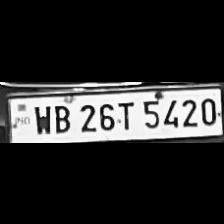0: (198, 94, 216, 124)
2: (75, 100, 97, 132), (178, 95, 198, 127)
4: (160, 94, 178, 128)
5: (138, 96, 160, 128)
6: (96, 99, 116, 131)
B: (50, 100, 72, 134)
T: (116, 96, 136, 130)
W: (30, 102, 52, 134)
